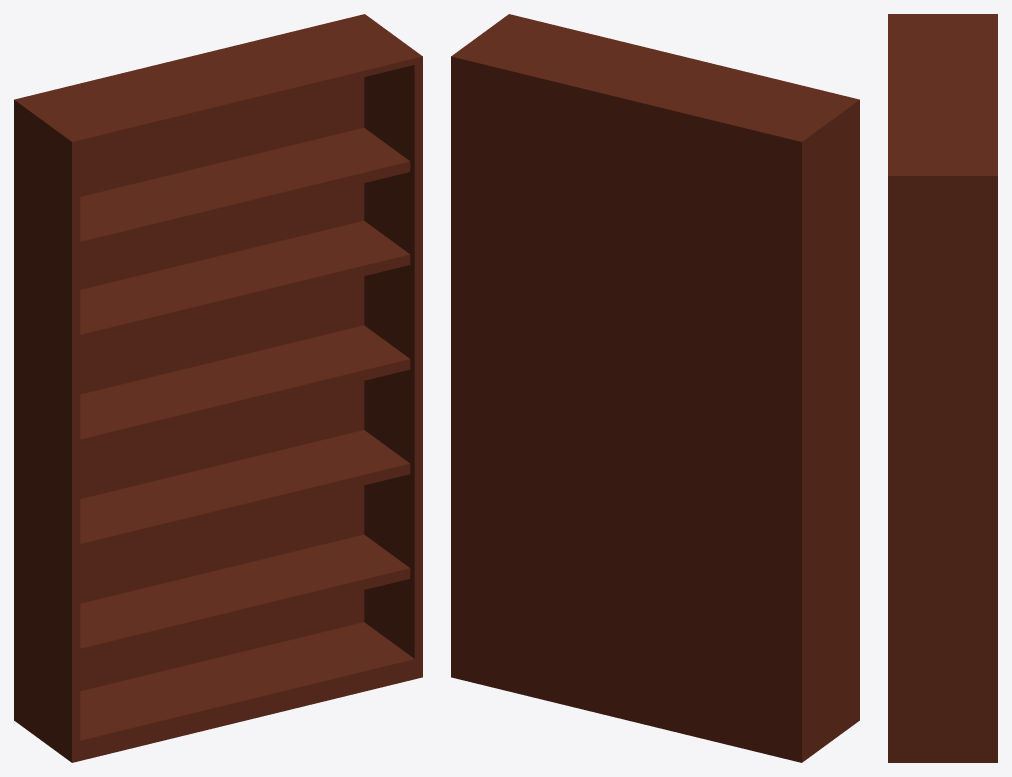
The model's file is VHS_Shelf.fbx.
3 views of the same model, side by side, from view 1: azimuth 30°, elevation 25°; view 2: azimuth 150°, elevation 25°; view 3: azimuth 270°, elevation 25° (orthographic). The views are drawn at different scales.
Visible parts, largest first — view 1: VHS Shelf; view 2: VHS Shelf; view 3: VHS Shelf.
Boxes of the visible parts, x1=… form: VHS Shelf: x1=14, y1=14, x2=422, y2=762; VHS Shelf: x1=451, y1=14, x2=859, y2=762; VHS Shelf: x1=888, y1=14, x2=997, y2=762.
Size of the model in its own units: 150 by 254 by 43.07.
